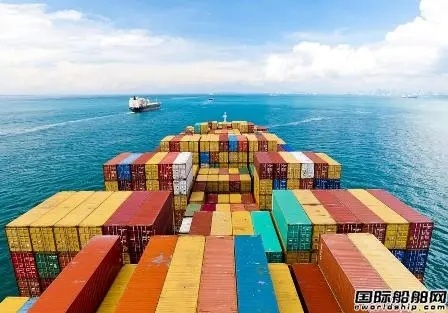Cargoship: (12, 113, 444, 313), (127, 93, 161, 116)
